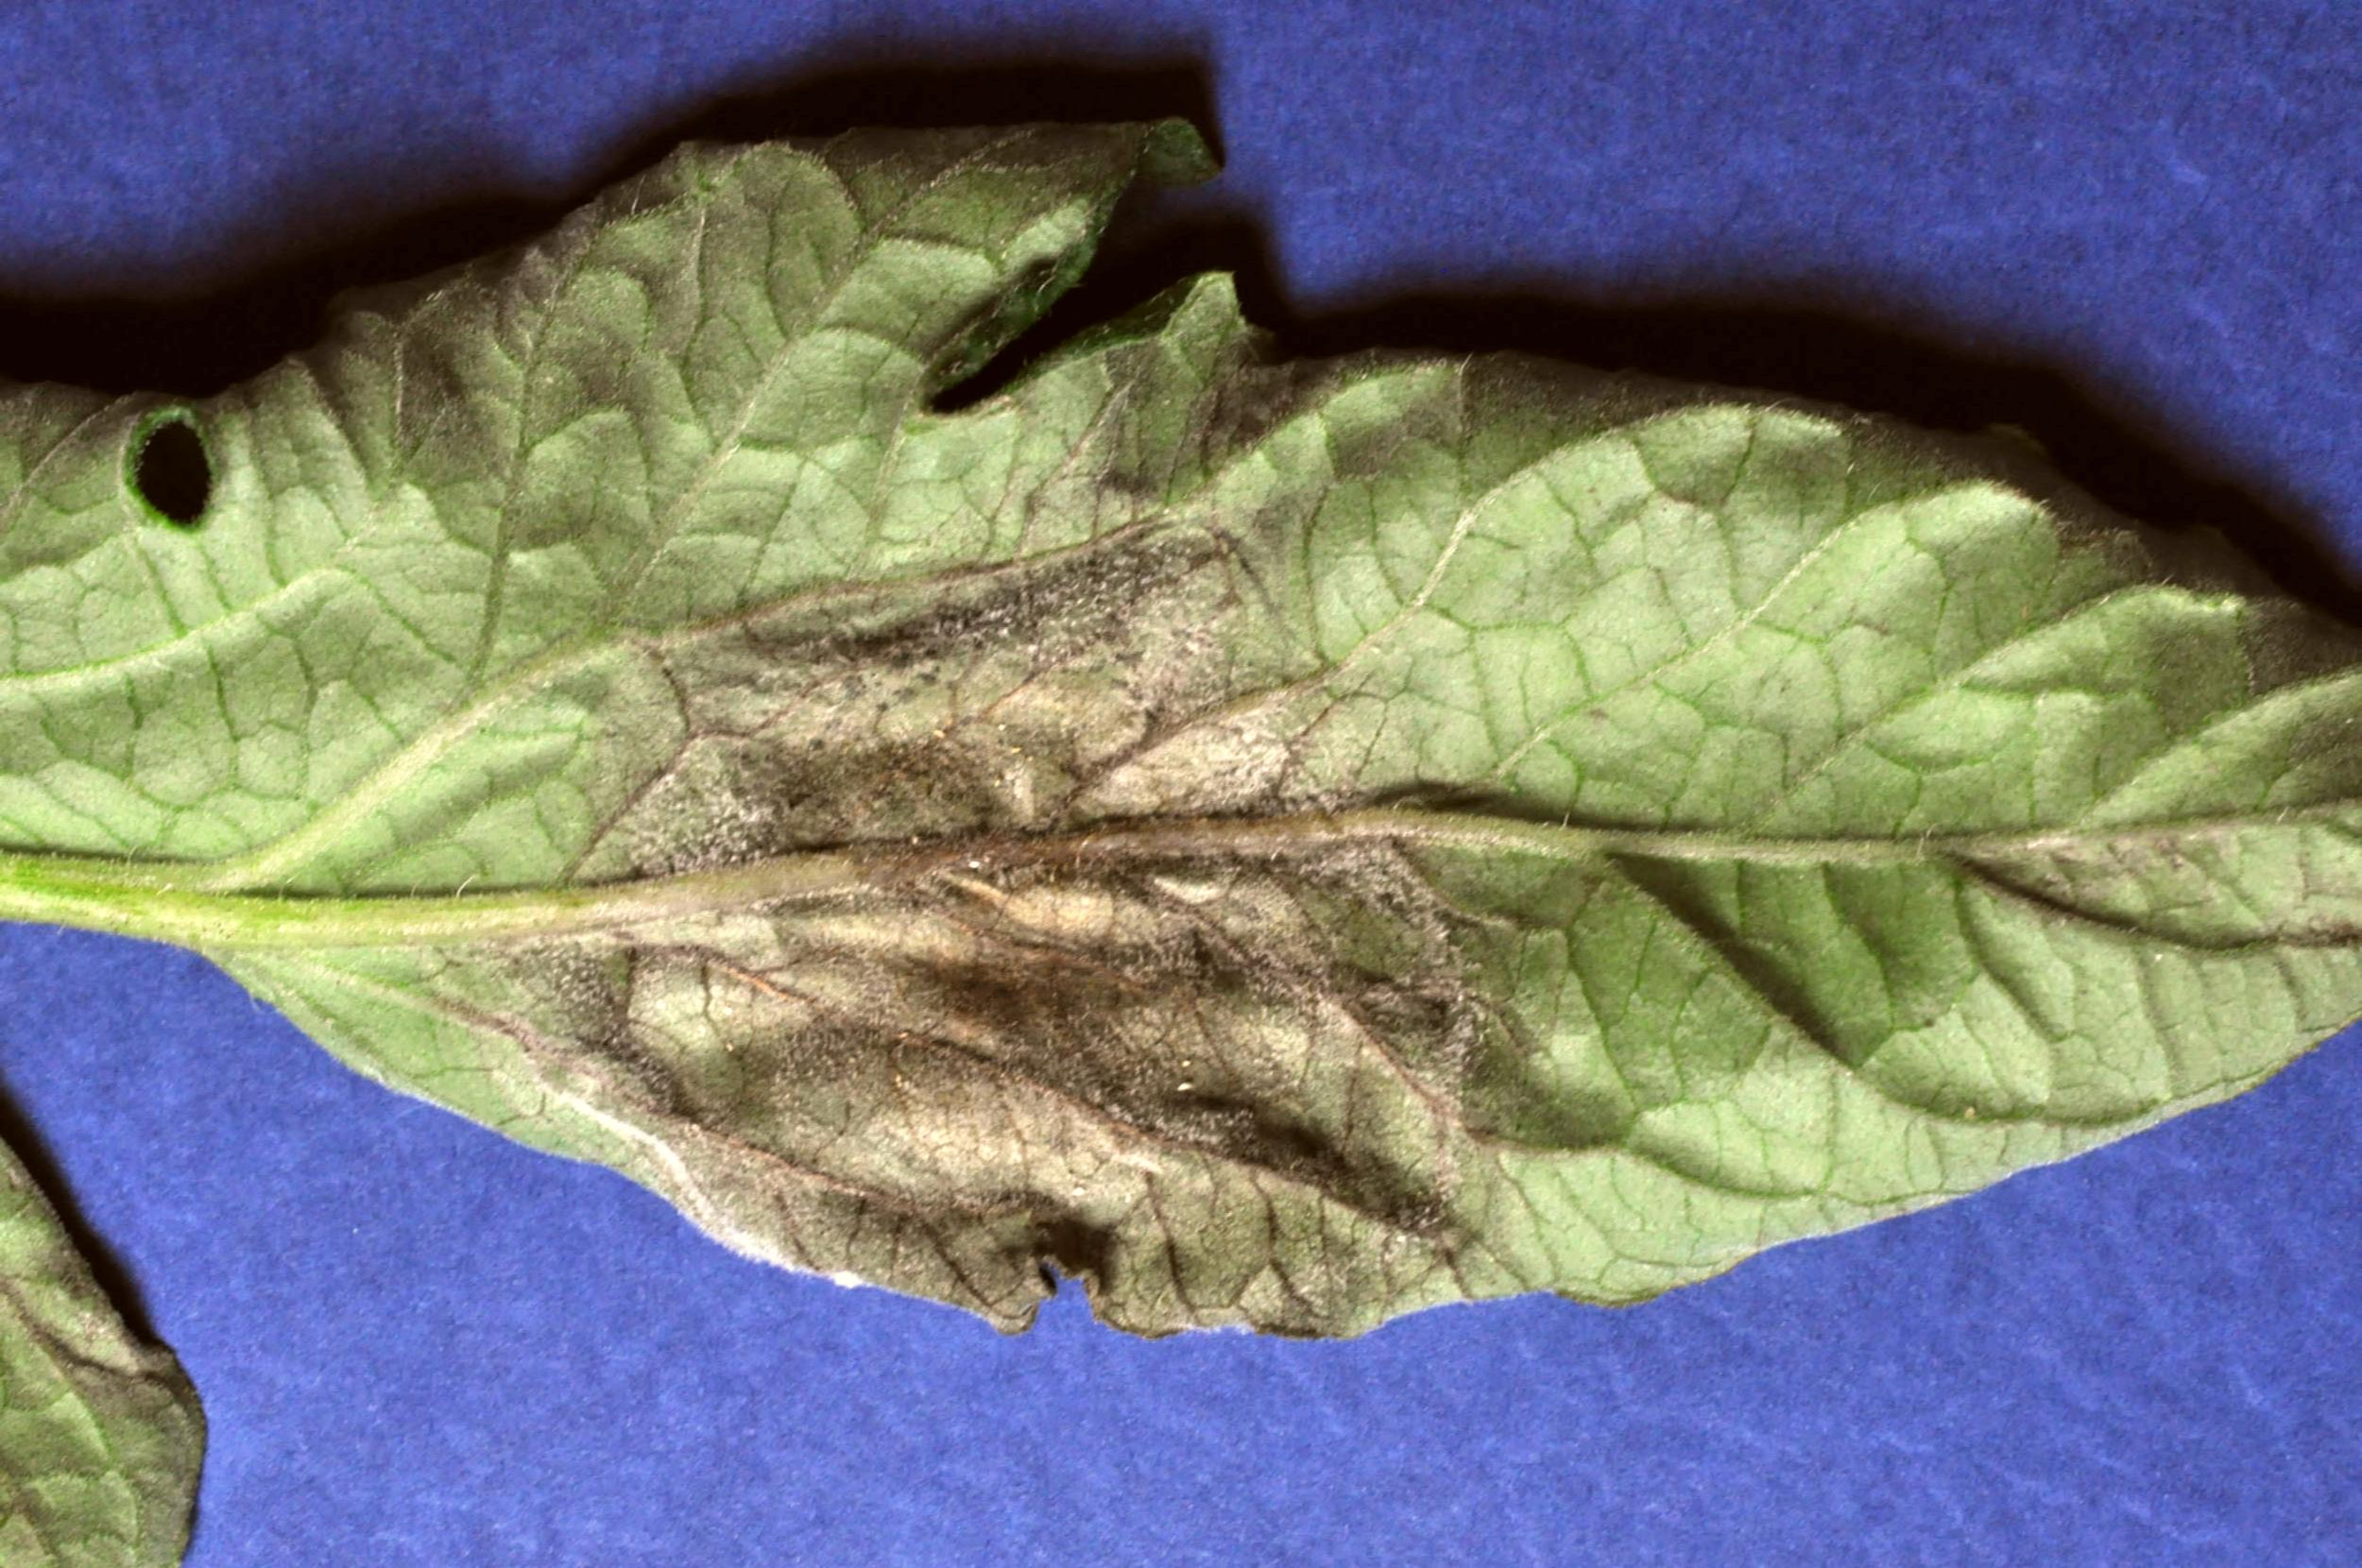Tomato leaf late blight: (19, 24, 2362, 1312)
